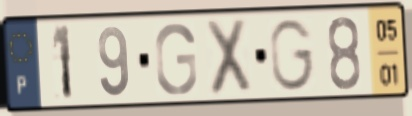1: (50, 22, 74, 105)
8: (325, 13, 362, 93)
9: (95, 23, 131, 100)
G: (267, 16, 317, 94), (152, 21, 199, 98)
X: (203, 15, 255, 99)
